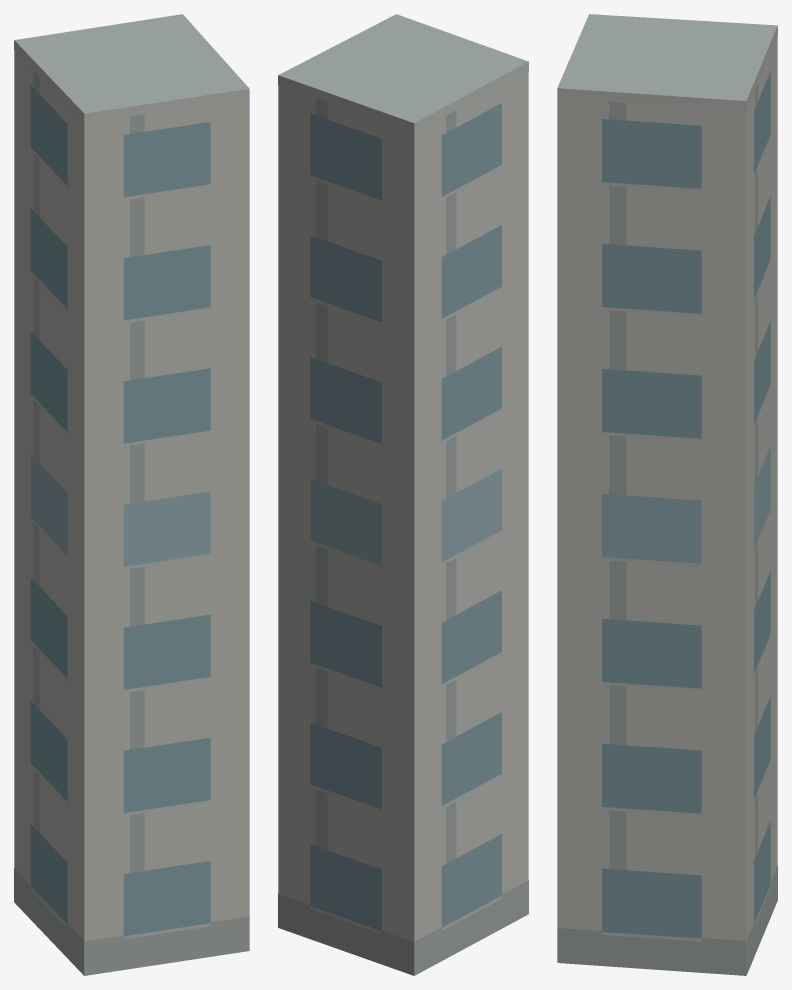
File: survey-upis-32935941.glb
3 views of the same model, side by side, from view 1: azimuth 30°, elevation 25°; view 2: azimuth 150°, elevation 25°; view 3: azimuth 270°, elevation 25° (orthographic). The views are drawn at different scales.
Visible parts, largest first — view 1: survey-upis-32935941.tmp; view 2: survey-upis-32935941.tmp; view 3: survey-upis-32935941.tmp.
Boxes of the visible parts, x1,y1,x2,y2 form: survey-upis-32935941.tmp: (14,14,249,975); survey-upis-32935941.tmp: (278,14,528,975); survey-upis-32935941.tmp: (557,14,777,975).
Bounding box in the file's own units: 4.57 × 21.35 × 4.89.
